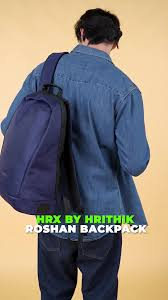backpack: (0, 51, 81, 215)
